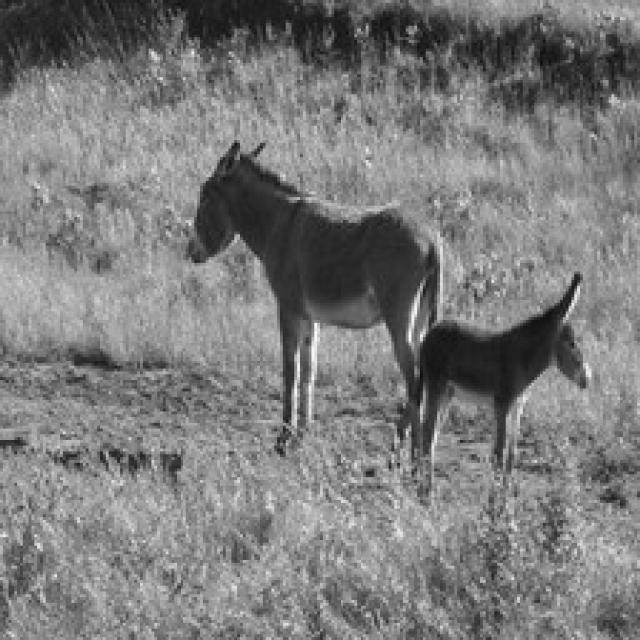Donkey: (183, 137, 443, 466), (408, 269, 592, 497)
